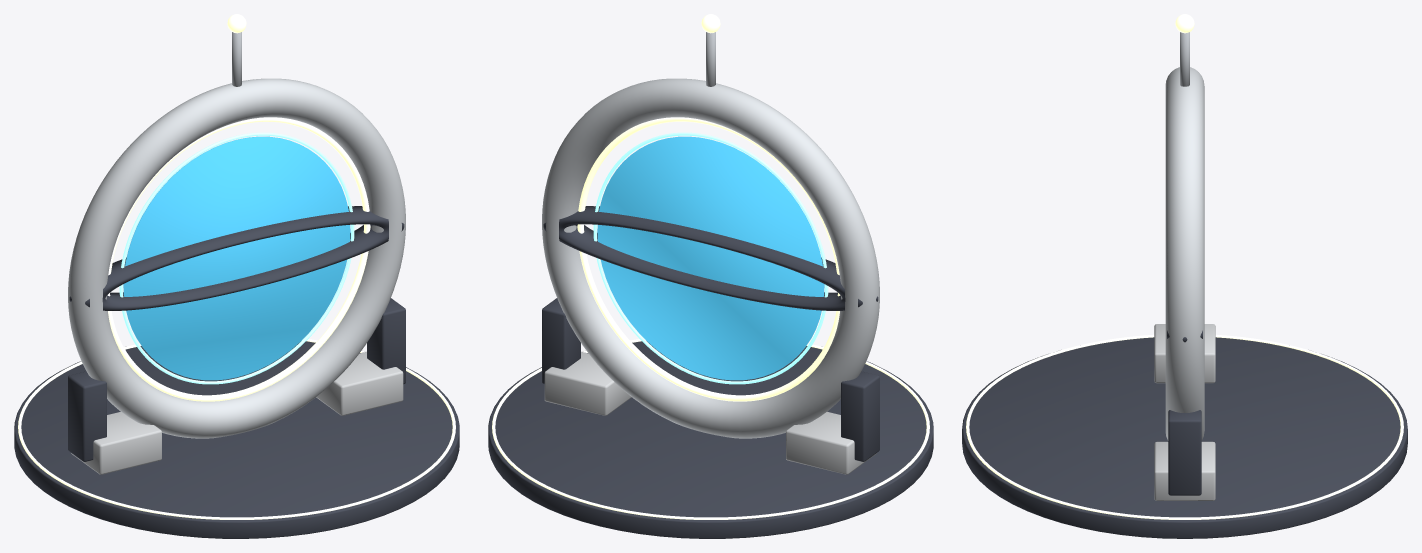
The model's file is gateway.glb.
3 renders of one model, left to right at view 1: azimuth 30°, elevation 25°; view 2: azimuth 150°, elevation 25°; view 3: azimuth 270°, elevation 25°, orthographic.
Parts seen in each view (by area): view 1: gateway_Graphite, gateway_Glass, gateway_Hull, gateway_Amber, gateway_HullWarm, spin_GateInner, gateway_Steel; view 2: gateway_Graphite, gateway_Glass, gateway_Hull, gateway_Amber, gateway_HullWarm, spin_GateInner, gateway_Steel; view 3: gateway_Graphite, gateway_Hull, gateway_Amber, gateway_HullWarm, gateway_Steel.
Part boxes in pixels (<box>): gateway_Graphite: <box>14,206,459,538</box>; gateway_Glass: <box>123,136,350,380</box>; gateway_Hull: <box>68,78,405,438</box>; gateway_Amber: <box>18,14,455,519</box>; gateway_HullWarm: <box>71,351,403,474</box>; spin_GateInner: <box>119,132,354,384</box>; gateway_Steel: <box>232,32,241,86</box>; gateway_Graphite: <box>488,206,933,538</box>; gateway_Glass: <box>597,136,824,380</box>; gateway_Hull: <box>542,78,879,438</box>; gateway_Amber: <box>492,14,929,519</box>; gateway_HullWarm: <box>544,351,876,474</box>; spin_GateInner: <box>593,132,828,384</box>; gateway_Steel: <box>706,32,715,86</box>; gateway_Graphite: <box>962,330,1407,538</box>; gateway_Hull: <box>1165,67,1204,440</box>; gateway_Amber: <box>966,14,1403,519</box>; gateway_HullWarm: <box>1154,324,1215,500</box>; gateway_Steel: <box>1180,32,1189,86</box>.
Bounding box in the file's own units: 16 × 17.05 × 16.
